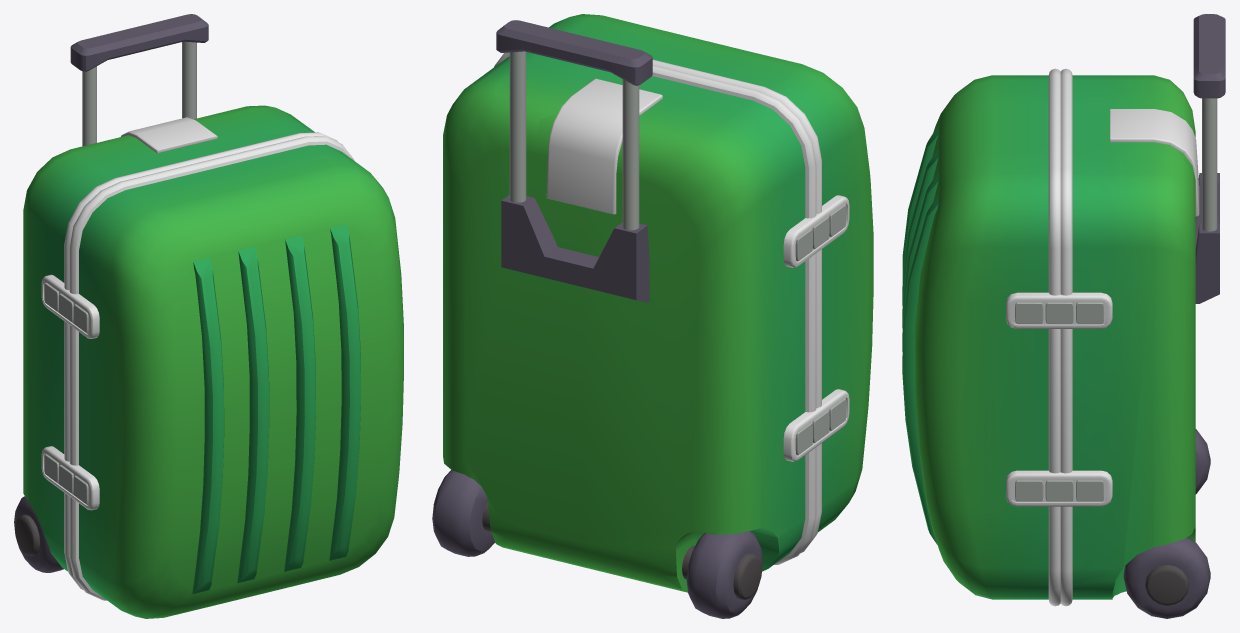
File: Baggage_Green.fbx
The picture shows the model from 3 angles, left to right: view 1: azimuth 30°, elevation 25°; view 2: azimuth 150°, elevation 25°; view 3: azimuth 270°, elevation 25°; orthographic projection. The views are drawn at different scales.
Parts seen in each view (by area): view 1: Baggage_Green; view 2: Baggage_Green; view 3: Baggage_Green.
Boxes of the visible parts, x1,y1,x2,y2 form: Baggage_Green: [14, 14, 403, 618]; Baggage_Green: [432, 14, 873, 618]; Baggage_Green: [902, 14, 1225, 618].
Size of the model in its own units: 66.35 by 107 by 61.04.
